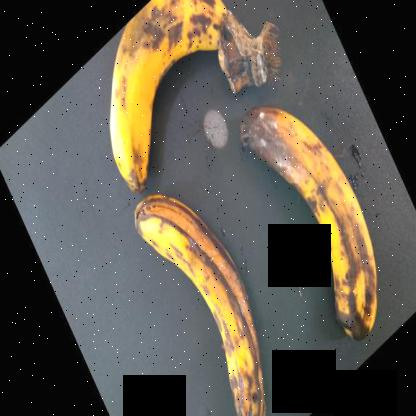overripe: (95, 0, 226, 185)
rotten: (238, 112, 406, 352), (138, 200, 283, 415)
